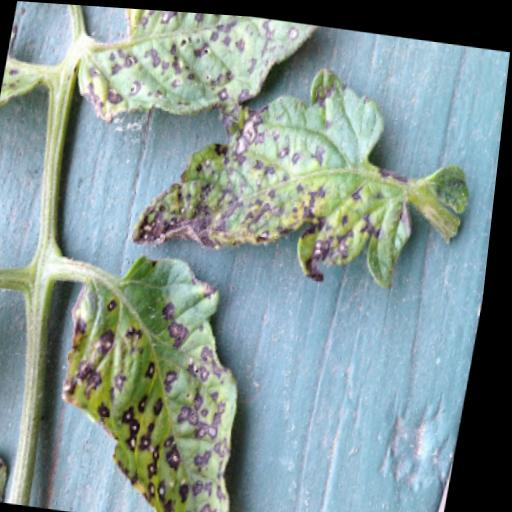Septoria: (118, 38, 507, 299), (48, 239, 290, 512), (57, 4, 341, 151)
